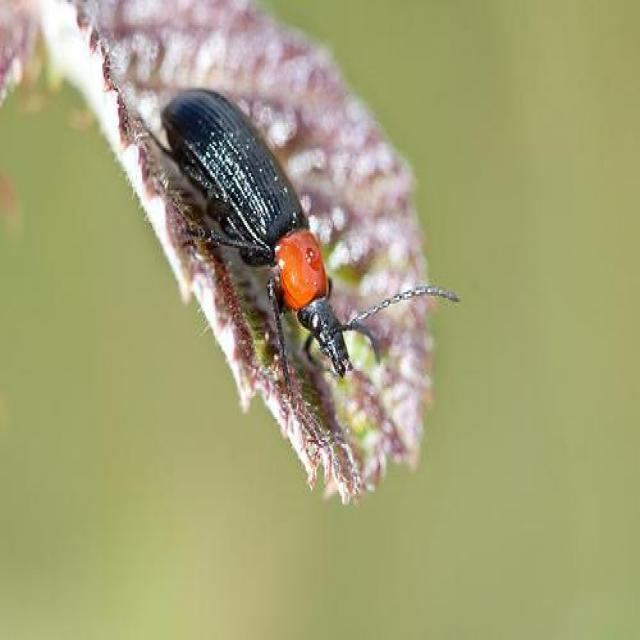BlisterBeetle-Adult-: (146, 86, 464, 394)
